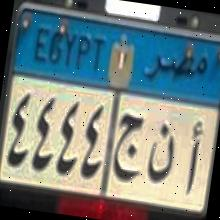4: (29, 89, 62, 174), (4, 87, 37, 172), (52, 98, 86, 179), (77, 102, 110, 182)
alif: (180, 118, 207, 198)
jeem: (109, 110, 149, 184)
noon: (144, 120, 180, 190)
